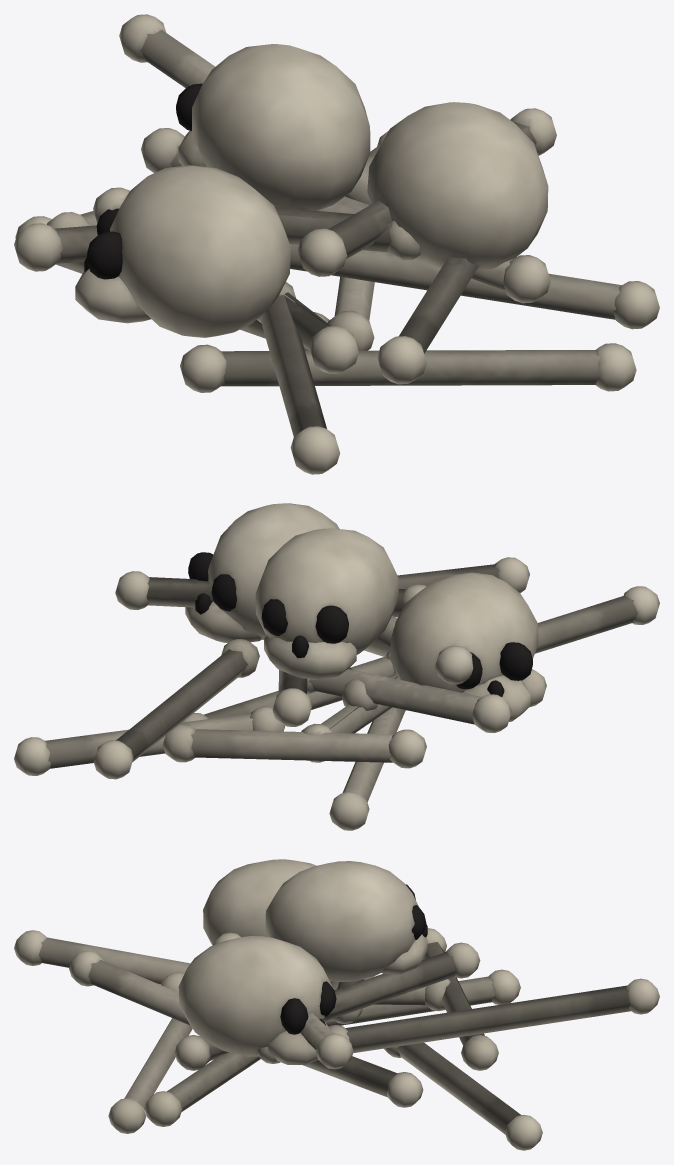
File: bone_pile.obj
3 renders of one model, top to bottom at view 1: azimuth 30°, elevation 25°; view 2: azimuth 150°, elevation 25°; view 3: azimuth 270°, elevation 25°, orthographic. The views are drawn at different scales.
Visible parts, largest first — view 1: part0, part1; view 2: part0, part1; view 3: part0, part1.
Boxes of the visible parts, <box> form: part0: <box>14,14,659,474</box>; part1: <box>84,83,202,279</box>; part0: <box>14,503,659,830</box>; part1: <box>188,552,532,696</box>; part0: <box>14,859,659,1150</box>; part1: <box>280,884,427,1034</box>.
Size of the model in its own units: 0.7364 by 0.3725 by 1.09.
